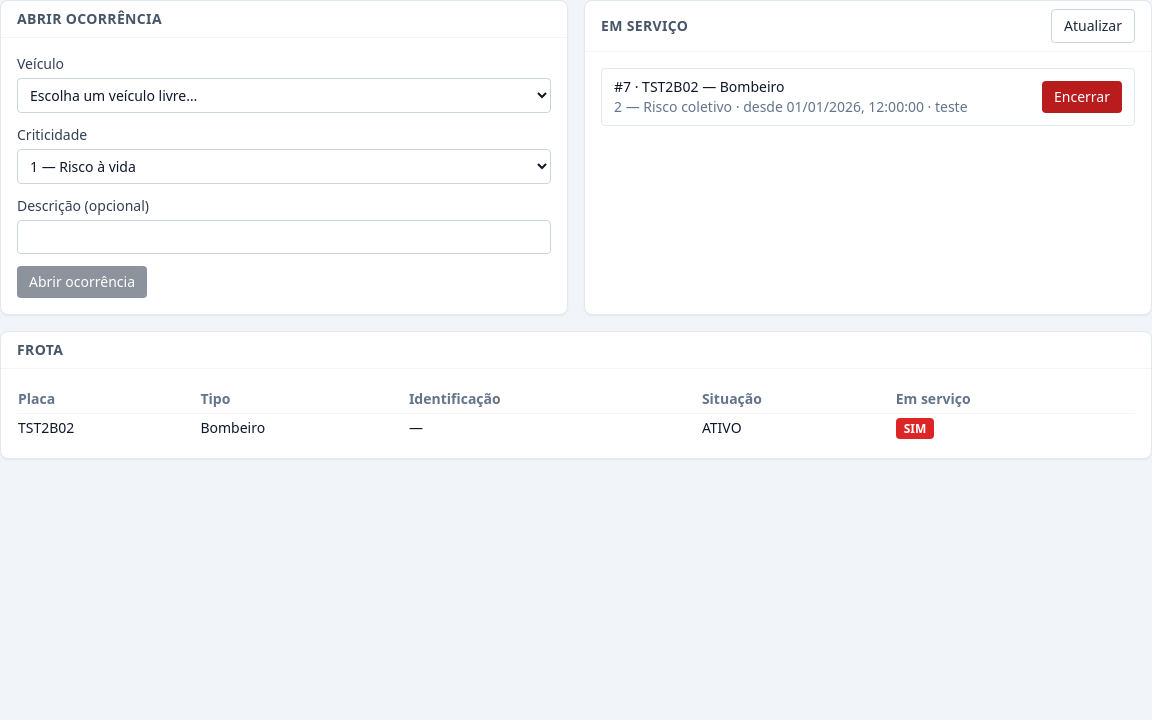
Test: PainelCentral › encerra a ocorrência
The width and height of the screenshot is (1152, 720).
Click the button "Encerrar" at [1082, 97], box x1=1042 y1=81 x2=1122 y2=113
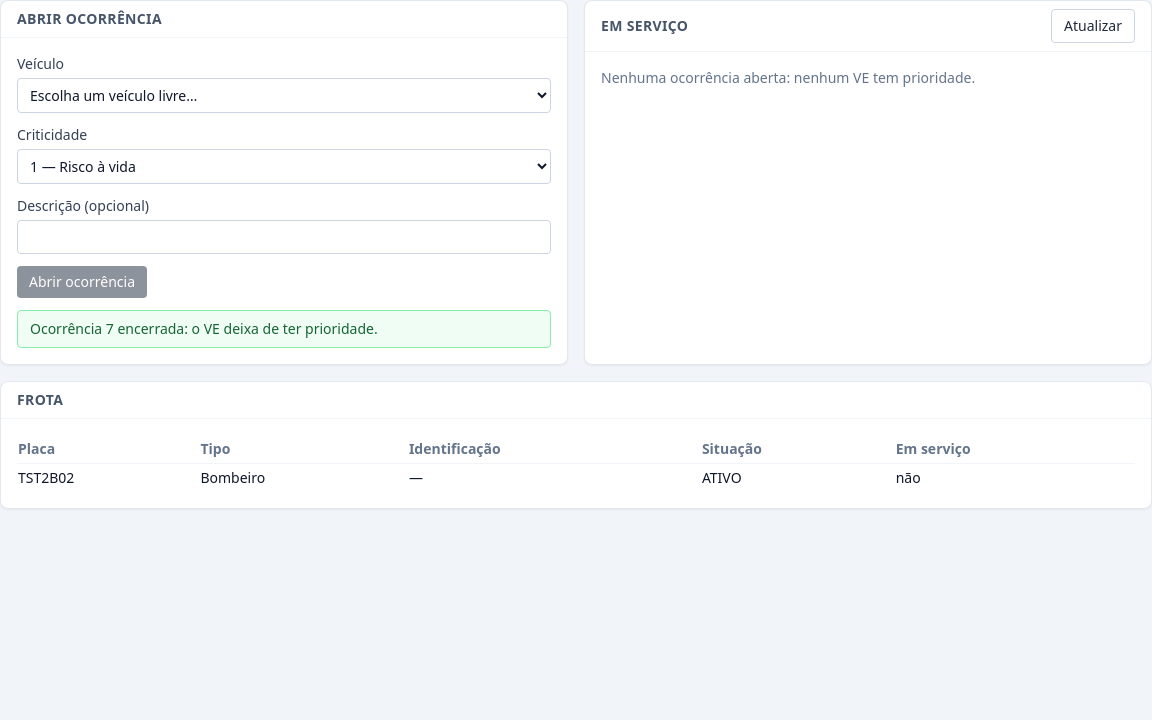
Expected: the text "Ocorrência 7 encerrada: o VE deixa de ter prioridade." is shown, x1=17 y1=310 x2=551 y2=348
Expected: the text "Nenhuma ocorrência aberta: nenhum VE tem prioridade." is shown, x1=601 y1=68 x2=975 y2=87
